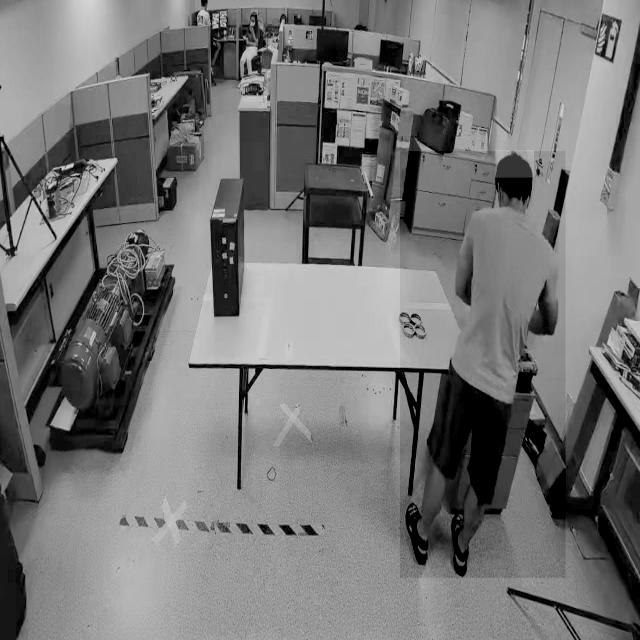head_nohelmet: (495, 150, 534, 179), (250, 10, 258, 16)
person: (400, 151, 566, 579), (238, 7, 268, 93)
